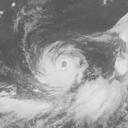cyclone: (33, 40, 89, 95)
